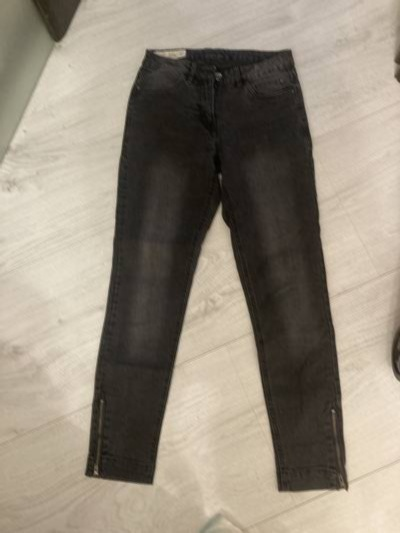Pants: (67, 32, 350, 487)
